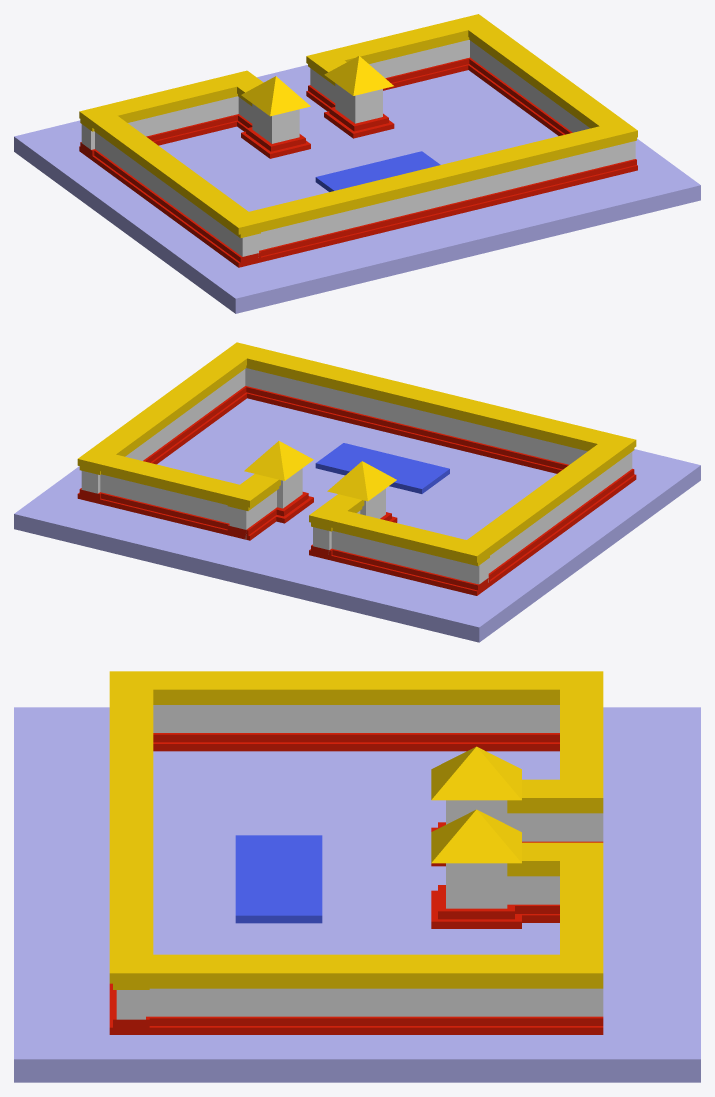
Rendered from WorldYamaTerrain.glb.
3 views of the same model, one above another, from view 1: azimuth 30°, elevation 25°; view 2: azimuth 150°, elevation 25°; view 3: azimuth 270°, elevation 25° (orthographic). The views are drawn at different scales.
Parts seen in each view (by area): view 1: Ground, Wall 4, Wall 3, Wall 5, Wall 2, Wall 6, WallStart 2, WallStart 1, Platform, Wall 7, Wall 1; view 2: Ground, Wall 4, Wall 3, Wall 5, Wall 2, Wall 6, Platform, WallStart 2, Wall 7, WallStart 1, Wall 1; view 3: Ground, Wall 5, Wall 3, Wall 4, WallStart 2, Platform, Wall 1, WallStart 1, Wall 2, Wall 6, Wall 7.
Boxes of the visible parts, left/top/right/bottom form: Ground: left=14, top=65, right=700, bottom=313; Wall 4: left=245, top=120, right=637, bottom=261; Wall 3: left=90, top=114, right=262, bottom=267; Wall 5: left=455, top=14, right=623, bottom=135; Wall 2: left=79, top=74, right=244, bottom=158; Wall 6: left=315, top=18, right=477, bottom=90; WallStart 2: left=324, top=56, right=394, bottom=138; WallStart 1: left=241, top=76, right=310, bottom=158; Platform: left=315, top=151, right=440, bottom=191; Wall 7: left=306, top=50, right=346, bottom=111; Wall 1: left=223, top=70, right=263, bottom=131; Ground: left=14, top=398, right=700, bottom=642; Wall 4: left=223, top=342, right=615, bottom=473; Wall 3: left=466, top=435, right=636, bottom=587; Wall 5: left=77, top=351, right=249, bottom=501; Wall 2: left=324, top=509, right=490, bottom=595; Wall 6: left=90, top=454, right=255, bottom=538; Platform: left=315, top=443, right=449, bottom=493; WallStart 2: left=244, top=441, right=313, bottom=523; Wall 7: left=226, top=474, right=280, bottom=540; WallStart 1: left=327, top=461, right=397, bottom=522; Wall 1: left=309, top=494, right=364, bottom=558; Ground: left=14, top=707, right=700, bottom=1082; Wall 5: left=143, top=954, right=603, bottom=1034; Wall 3: left=109, top=671, right=568, bottom=751; Wall 4: left=109, top=686, right=153, bottom=1034; WallStart 2: left=431, top=809, right=521, bottom=928; Platform: left=235, top=835, right=322, bottom=923; Wall 1: left=507, top=779, right=603, bottom=842; WallStart 1: left=431, top=746, right=521, bottom=866; Wall 2: left=560, top=671, right=603, bottom=780; Wall 6: left=560, top=847, right=603, bottom=963; Wall 7: left=507, top=842, right=603, bottom=922.
Size of the model in its own units: 48 by 8.1 by 39.6.
